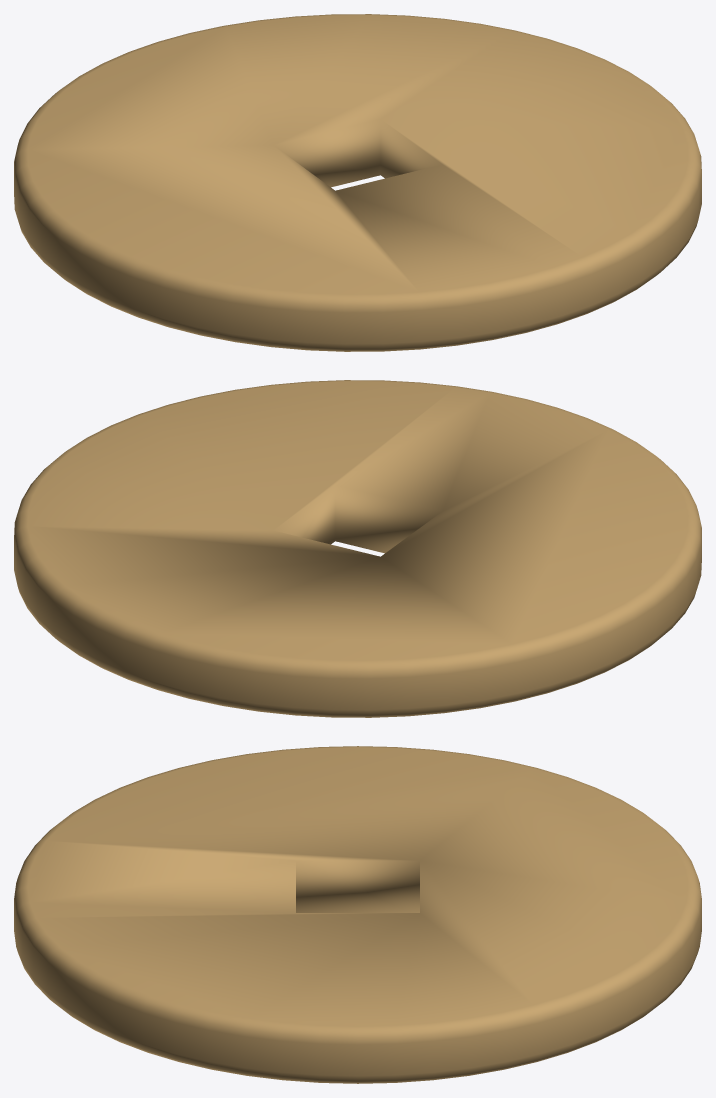
The model's file is tongqian.glb.
The picture shows the model from 3 angles, top to bottom: view 1: azimuth 30°, elevation 25°; view 2: azimuth 150°, elevation 25°; view 3: azimuth 270°, elevation 25°; orthographic projection.
Visible parts, largest first — view 1: tongqian; view 2: tongqian; view 3: tongqian.
Boxes of the visible parts, x1,y1,x2,y2 form: tongqian: (14,14,701,351); tongqian: (14,380,701,717); tongqian: (14,746,701,1083).
Size of the model in its own units: 1 by 0.09 by 1.
